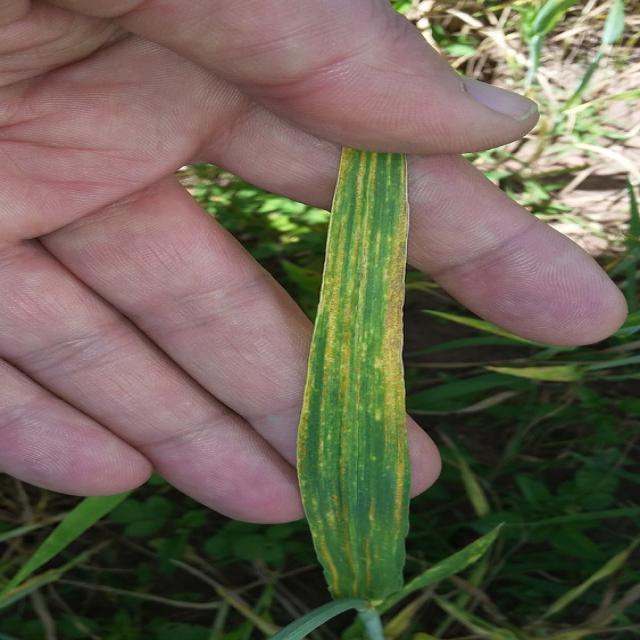wheat-yellowrust: (296, 148, 413, 611)
